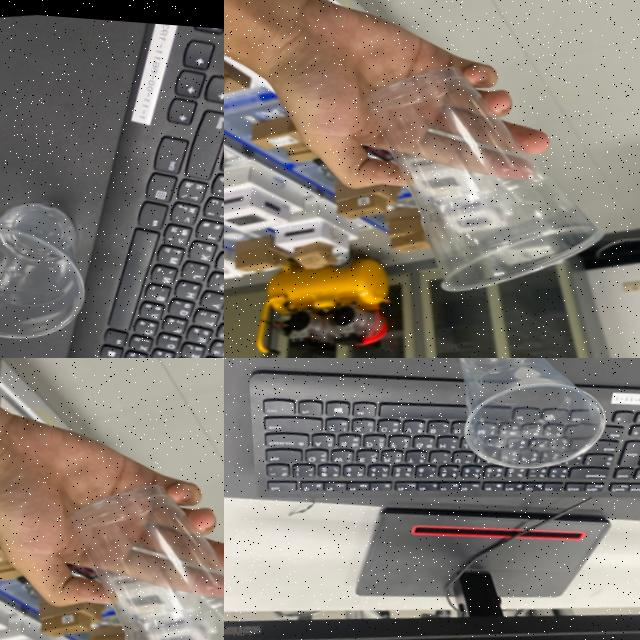glass: (356, 34, 614, 308), (60, 451, 224, 640), (431, 358, 618, 480), (0, 180, 100, 358)
